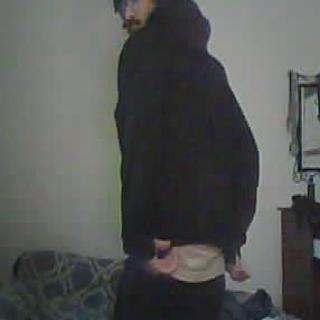Navy Sweatpants: (115, 272, 226, 320)
